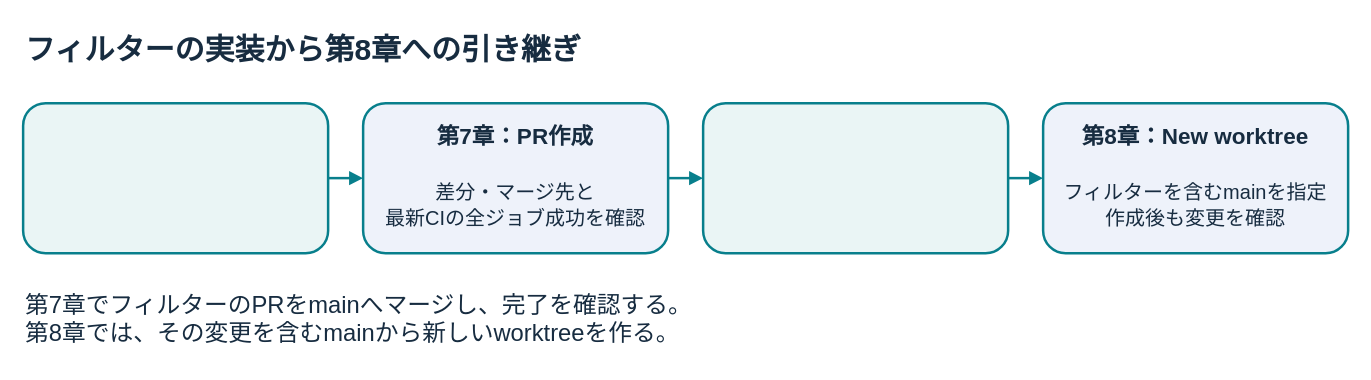
The diagram is 1371 pixels wide and 380 high, and some of its shapes have lost their labels. The shapes that lost their labels are listed below. From the top down, each one's box as (x1, y1, x2, y2) in pixels, then its label:
(21, 101, 329, 254): 第5・6章 同じworktreeで フィルターを実装・検証
(701, 101, 1009, 254): 第7章：Agent Merge mainへマージし Mergedとマージ先を確認
